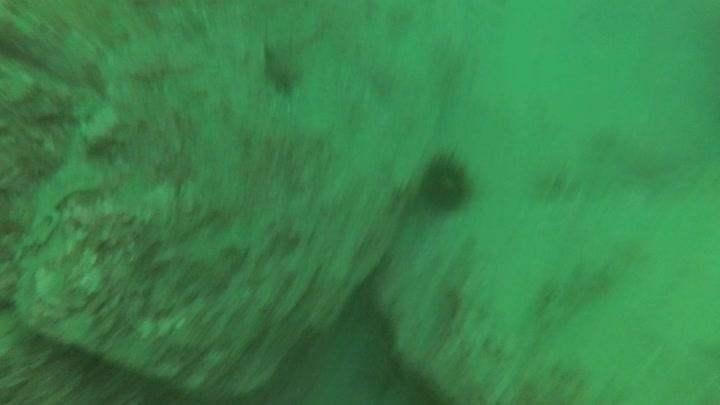echinus: (415, 148, 479, 218)
starfish: (258, 40, 307, 97)
